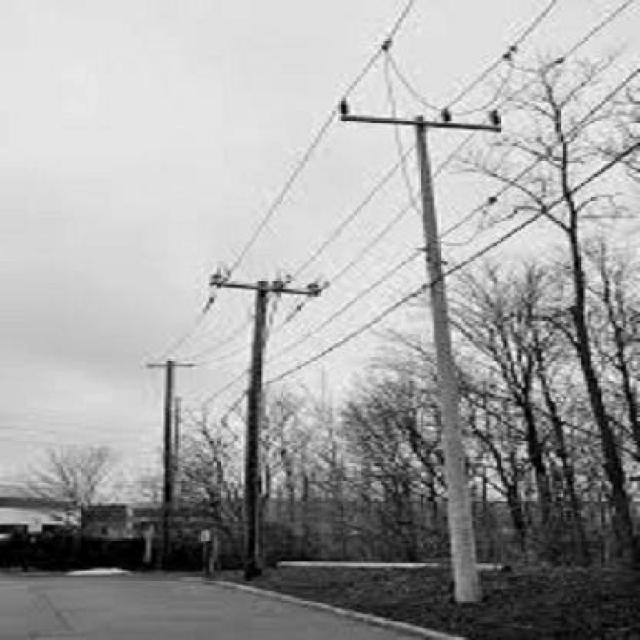Pole: (339, 100, 500, 603), (212, 274, 325, 576), (148, 359, 194, 564)
